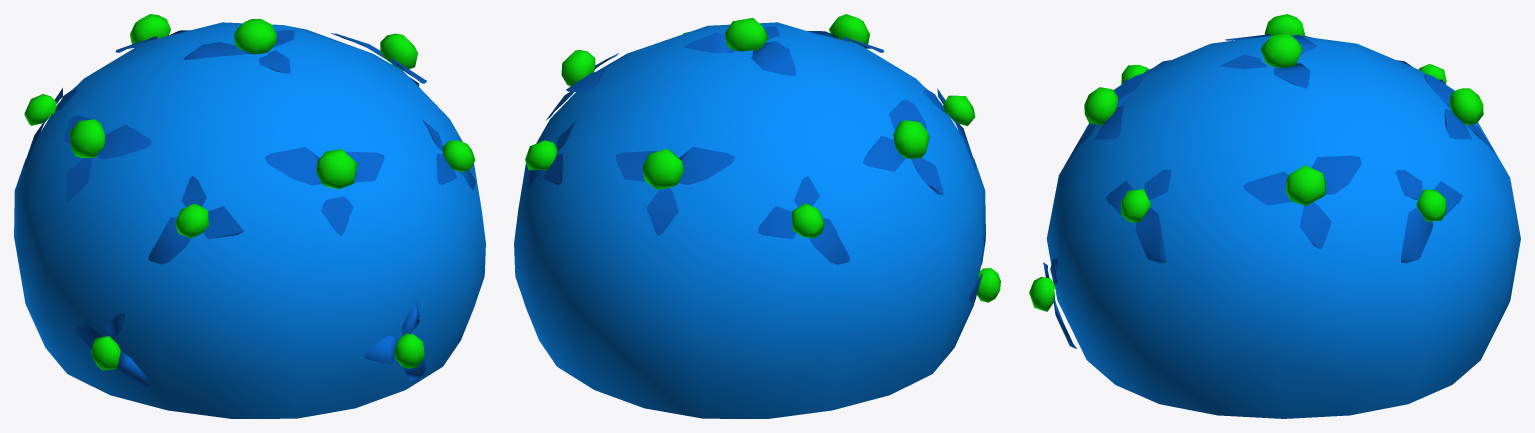
Rendered from Bush.fbx.
3 views of the same model, side by side, from view 1: azimuth 30°, elevation 25°; view 2: azimuth 150°, elevation 25°; view 3: azimuth 270°, elevation 25° (orthographic). The views are drawn at different scales.
Parts seen in each view (by area): view 1: Bush; view 2: Bush; view 3: Bush.
Boxes of the visible parts, <box> form: Bush: <box>14,14,485,418</box>; Bush: <box>514,14,1000,418</box>; Bush: <box>1029,14,1520,418</box>.
Bounding box in the file's own units: 134 × 96.59 × 144.
